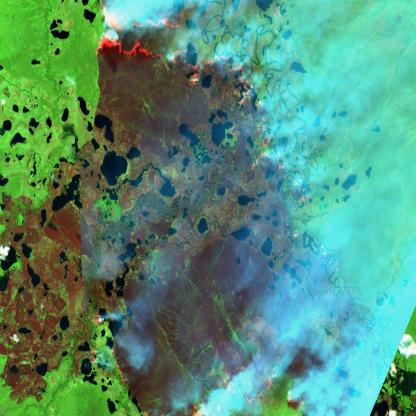fire: (94, 0, 313, 207), (188, 349, 310, 416), (87, 301, 127, 385)
